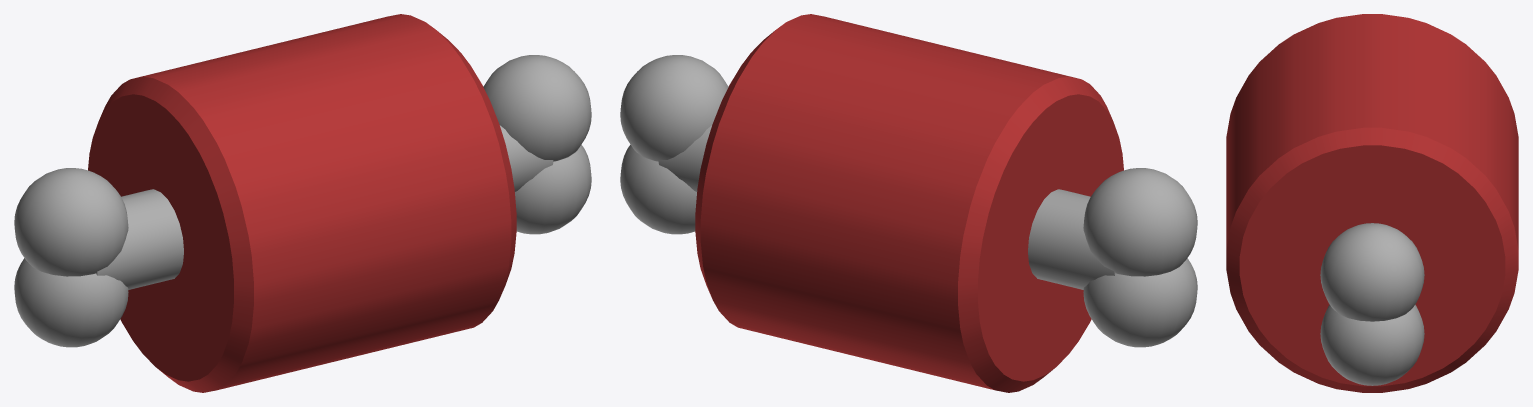
Rendered from meat.fbx.
The picture shows the model from 3 angles, left to right: view 1: azimuth 30°, elevation 25°; view 2: azimuth 150°, elevation 25°; view 3: azimuth 270°, elevation 25°; orthographic projection. The views are drawn at different scales.
Parts seen in each view (by area): view 1: pasted__pasted__pasted__pSphere2; view 2: pasted__pasted__pasted__pSphere2; view 3: pasted__pasted__pasted__pSphere2.
Part boxes in pixels (bbox=[...]): pasted__pasted__pasted__pSphere2: bbox=[14, 14, 591, 392]; pasted__pasted__pasted__pSphere2: bbox=[620, 14, 1197, 392]; pasted__pasted__pasted__pSphere2: bbox=[1226, 14, 1518, 392].
Size of the model in its own units: 3.98 by 1.98 by 1.98.
